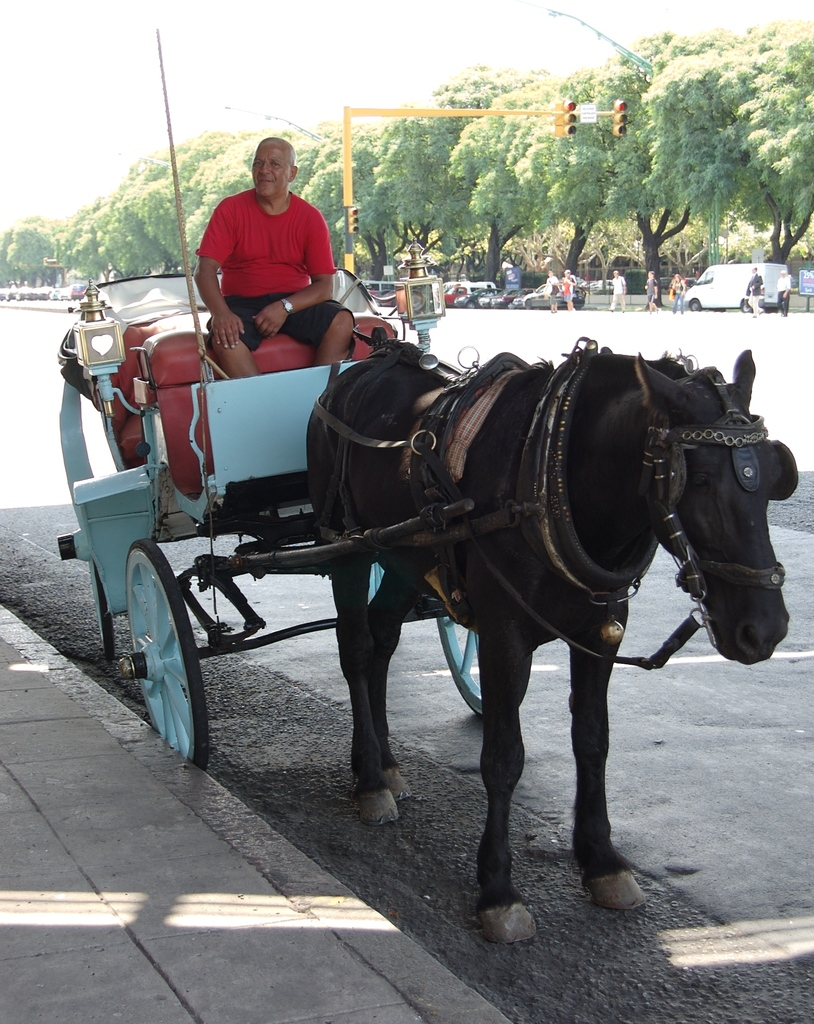horse: (305, 324, 799, 946)
